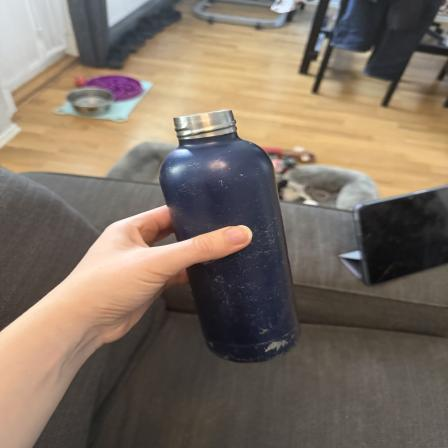blue_bottle: (158, 111, 302, 364)
